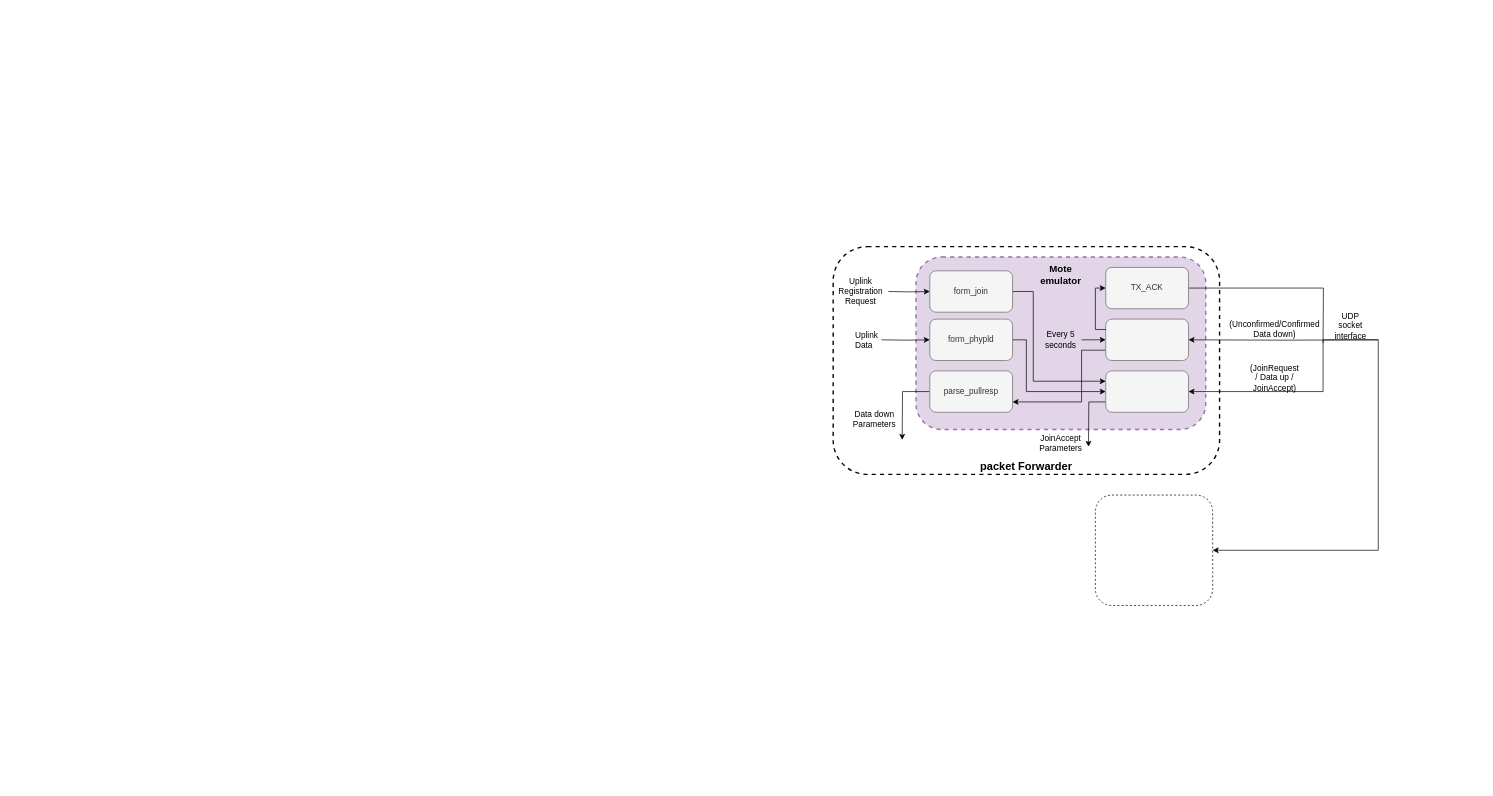
Image size: 1493x796. Some labels were removed from this diagram. The centre of each missing label's shape, as x and y in pixels:
"Network Server" goes at point (1154, 549).
"pull" goes at point (1147, 339).
"push" goes at point (1147, 391).
